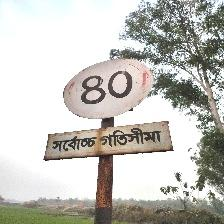Speed-limit: (46, 57, 168, 161)
